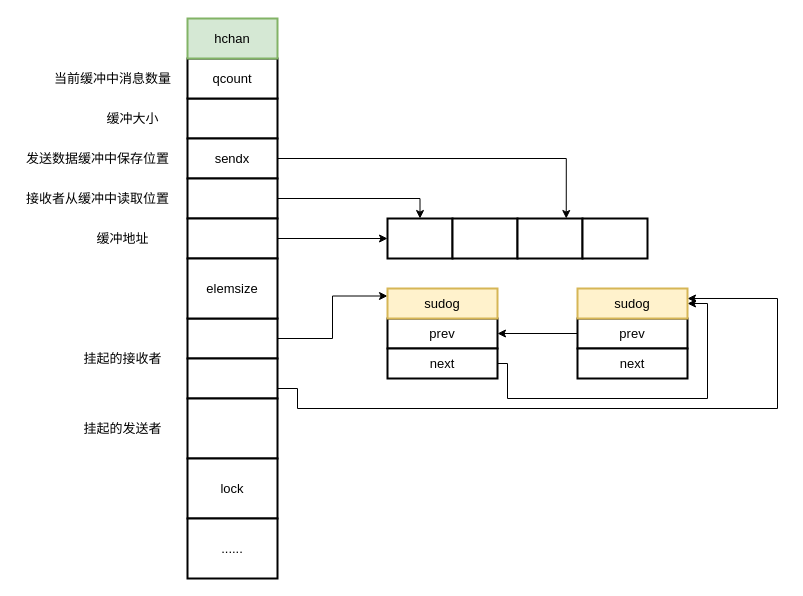
The diagram is 803 pixels wide and 596 high, and some of its shapes have lost their labels. Each missing label, with the box of its shape:
buf: (186, 217, 278, 259)
dataqsiz: (186, 97, 278, 139)
recvq.first: (186, 317, 278, 359)
recvq.last: (186, 357, 278, 399)
recvx: (186, 177, 278, 219)
sendq: (186, 397, 278, 459)
